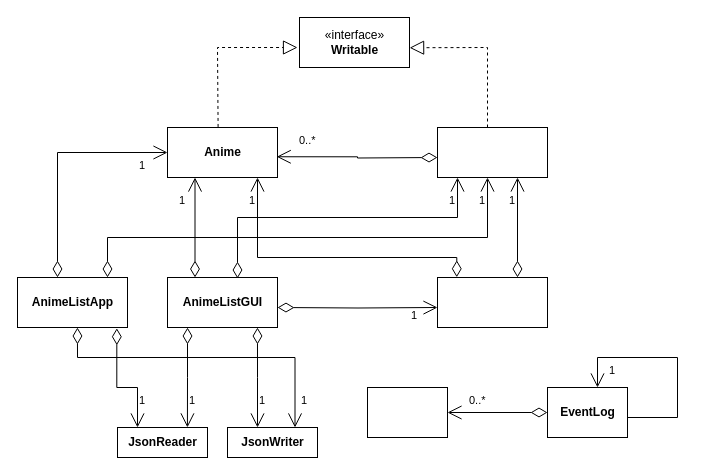
This 709x475 diagram has some shape labels left out. Each missing label, with the centre of its shape:
AddWindow: (x=492, y=302)
AnimeList: (x=492, y=152)
Event: (x=407, y=412)
